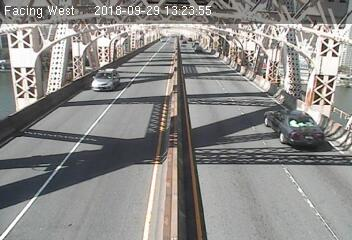car: (261, 104, 327, 154), (91, 68, 121, 92), (191, 45, 206, 55)
